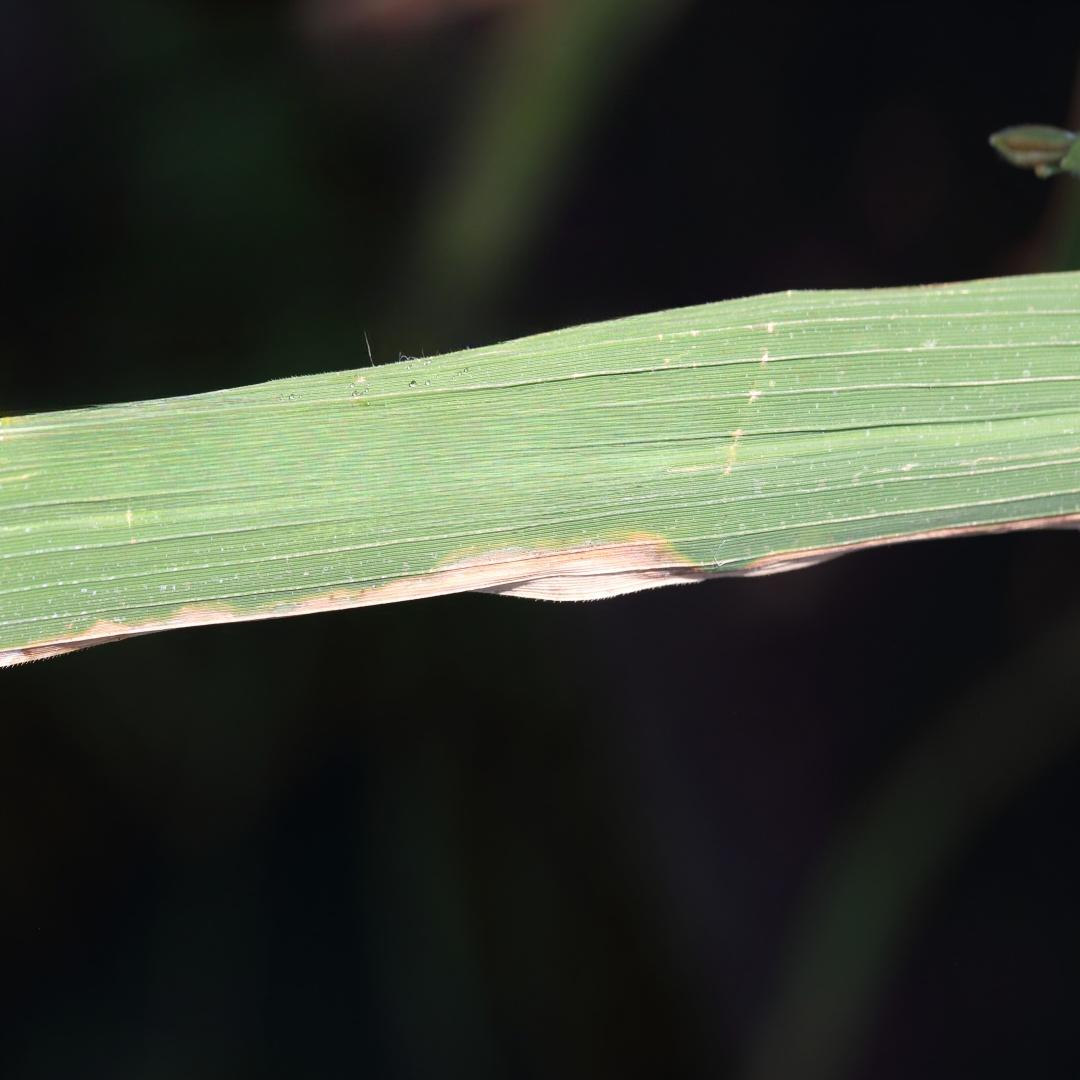BLB: (0, 511, 1079, 665)
LEAF: (0, 272, 1079, 666)
